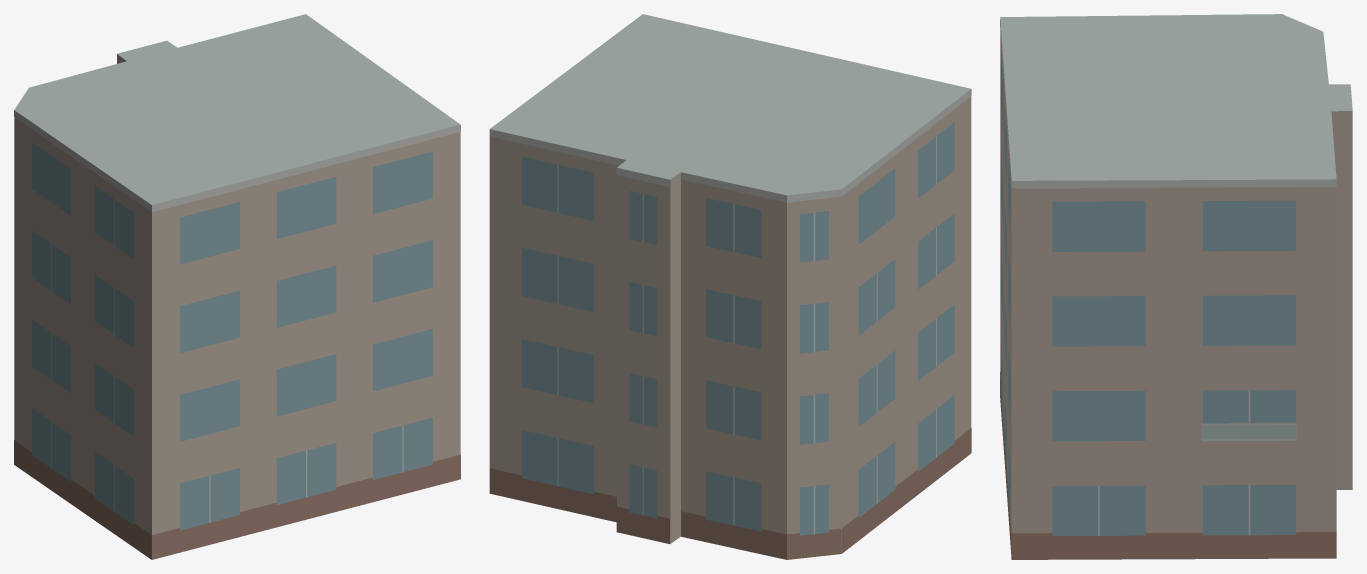
File: survey-upis-32805374.glb
3 renders of one model, left to right at view 1: azimuth 30°, elevation 25°; view 2: azimuth 150°, elevation 25°; view 3: azimuth 270°, elevation 25°, orthographic. The views are drawn at different scales.
Visible parts, largest first — view 1: survey-upis-32805374.tmp; view 2: survey-upis-32805374.tmp; view 3: survey-upis-32805374.tmp.
Part boxes in pixels (x1,y1,x2,y2): survey-upis-32805374.tmp: (14,14,460,559); survey-upis-32805374.tmp: (489,14,971,559); survey-upis-32805374.tmp: (1000,14,1352,559).
Size of the model in its own units: 11.53 by 12.2 by 10.3.
